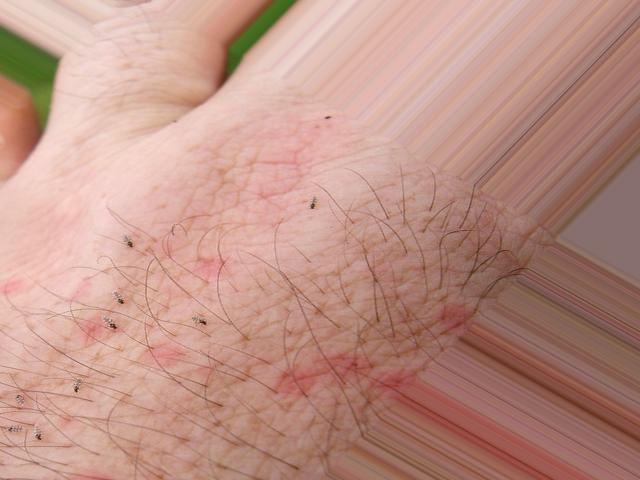Fleas: (95, 305, 127, 338), (305, 191, 333, 216), (1, 391, 36, 408), (67, 375, 88, 397), (116, 232, 137, 253), (107, 287, 127, 308), (0, 421, 23, 435), (30, 425, 48, 442), (189, 313, 208, 329)
